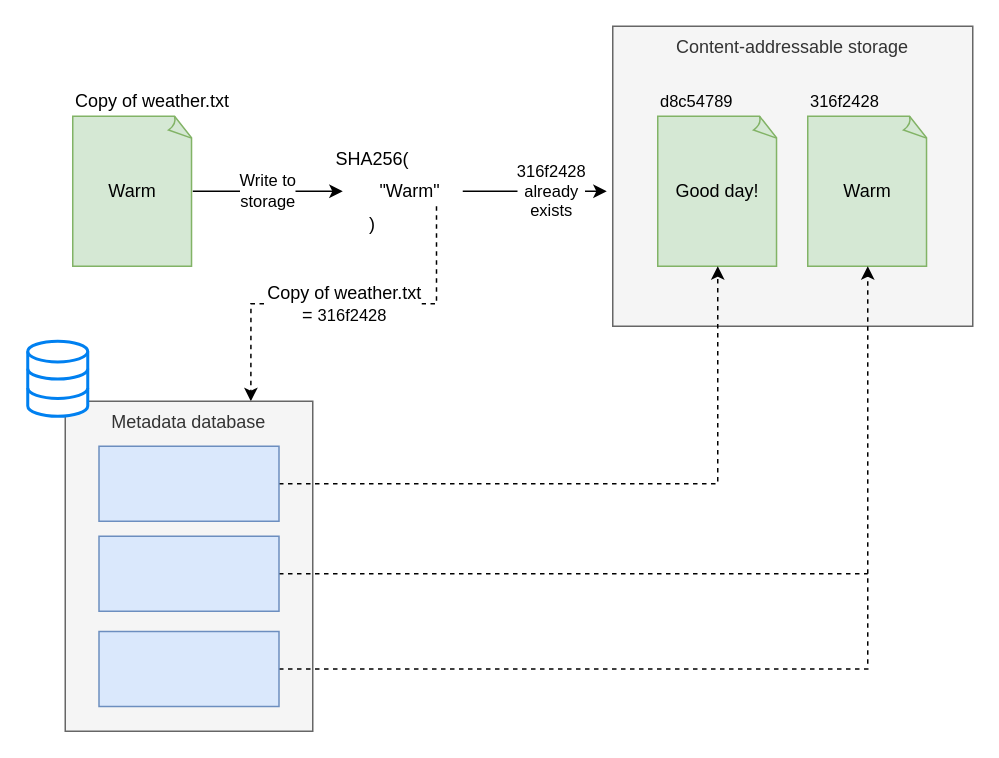
The diagram is 999 pixels wide and 758 high, and some of its shapes have lost their labels. Here are the shapes that lost their labels. From the top down, the centre of each, then its label:
At [188,483]: "message.txt d8c54789".
At [188,573]: "Copy of weather.txt 316f2428".
At [188,668]: "weather.txt 316f2428".
